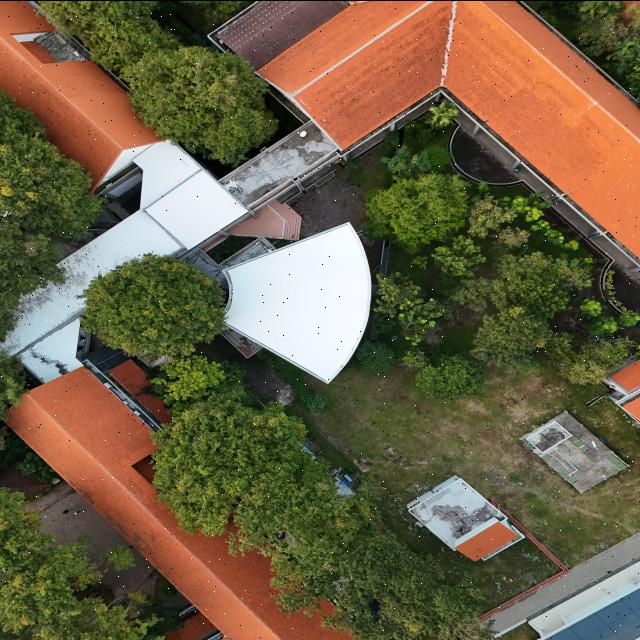Tree: (78, 252, 232, 364), (371, 171, 474, 244), (404, 352, 484, 400)
